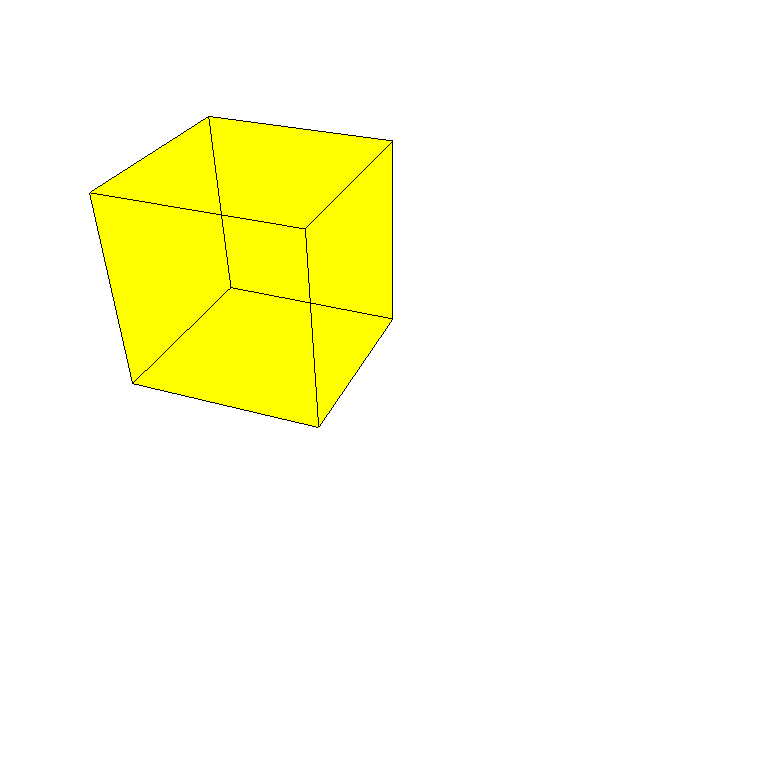YellowNothing: (87, 110, 659, 463)
